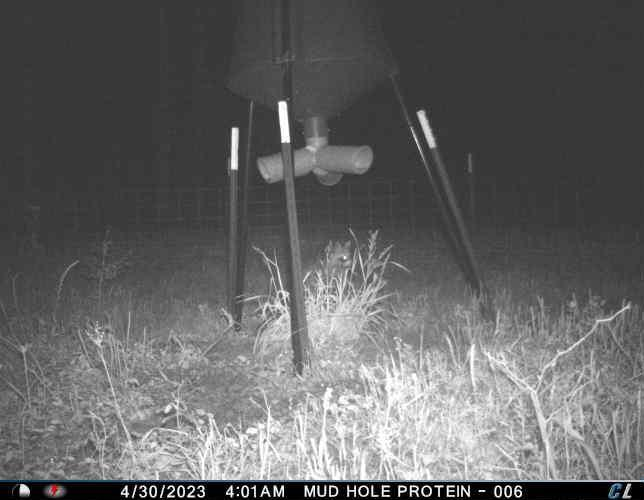Raccoon: (323, 236, 356, 280)
